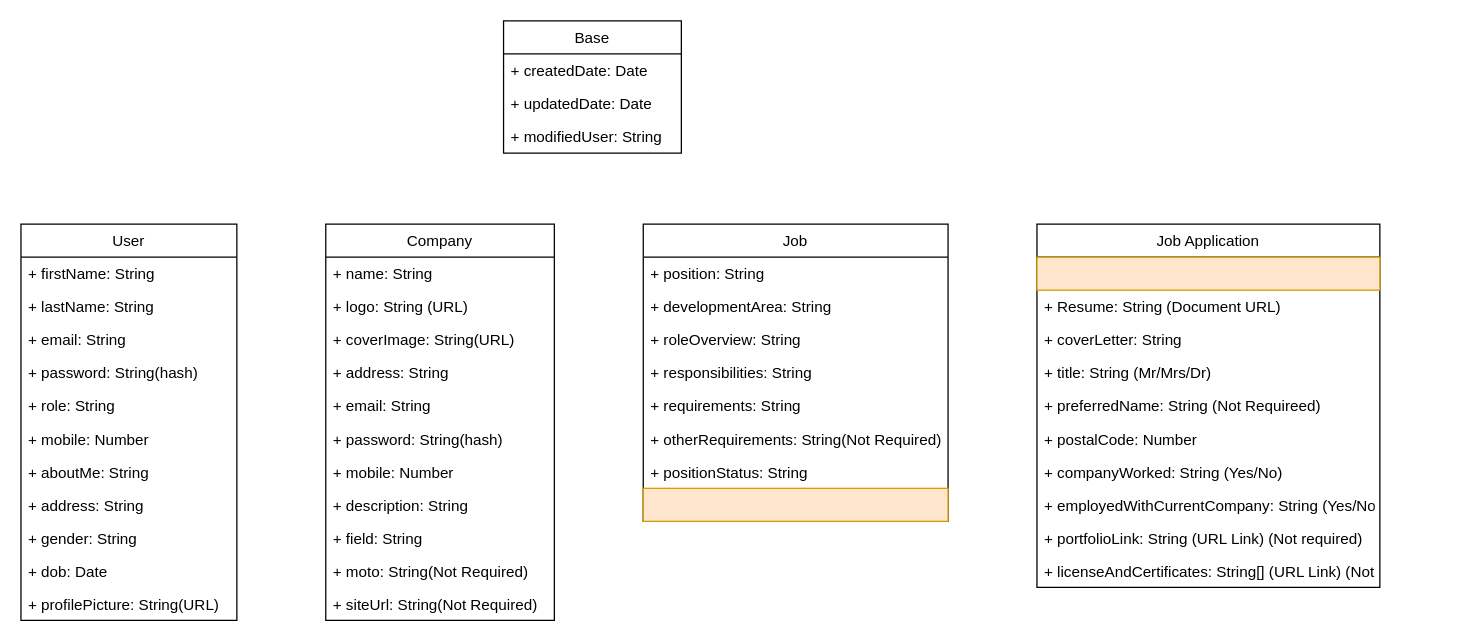
The diagram is 1461 pixels wide and 641 high, and some of its shapes have lost their labels. The shapes that lost their labels are listed below. From the top down, each one's centre as x and y in pixels, then its label:
At pixel 1208 273: "+ Applicant: String (User ID)".
At pixel 795 504: "+ companyID: String".
